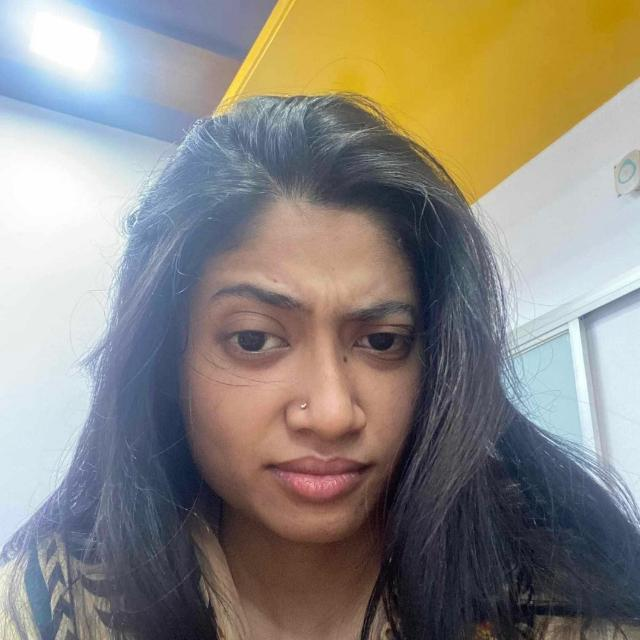Disgust: (47, 95, 581, 621)
